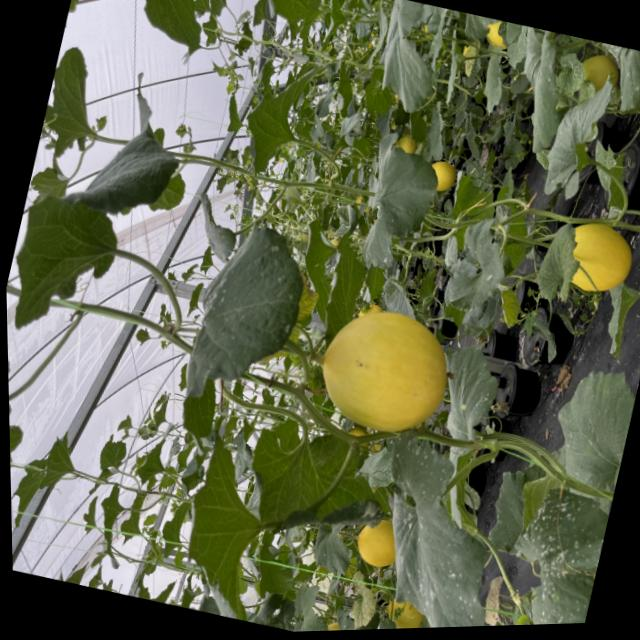downy mildew: (435, 208, 518, 333), (526, 221, 585, 307)
healthy: (2, 102, 180, 369), (159, 426, 294, 625), (225, 403, 387, 551), (346, 133, 445, 275), (362, 0, 457, 122), (7, 334, 41, 563)
powdery mildew: (157, 202, 321, 455), (343, 436, 520, 630), (481, 477, 615, 626)
